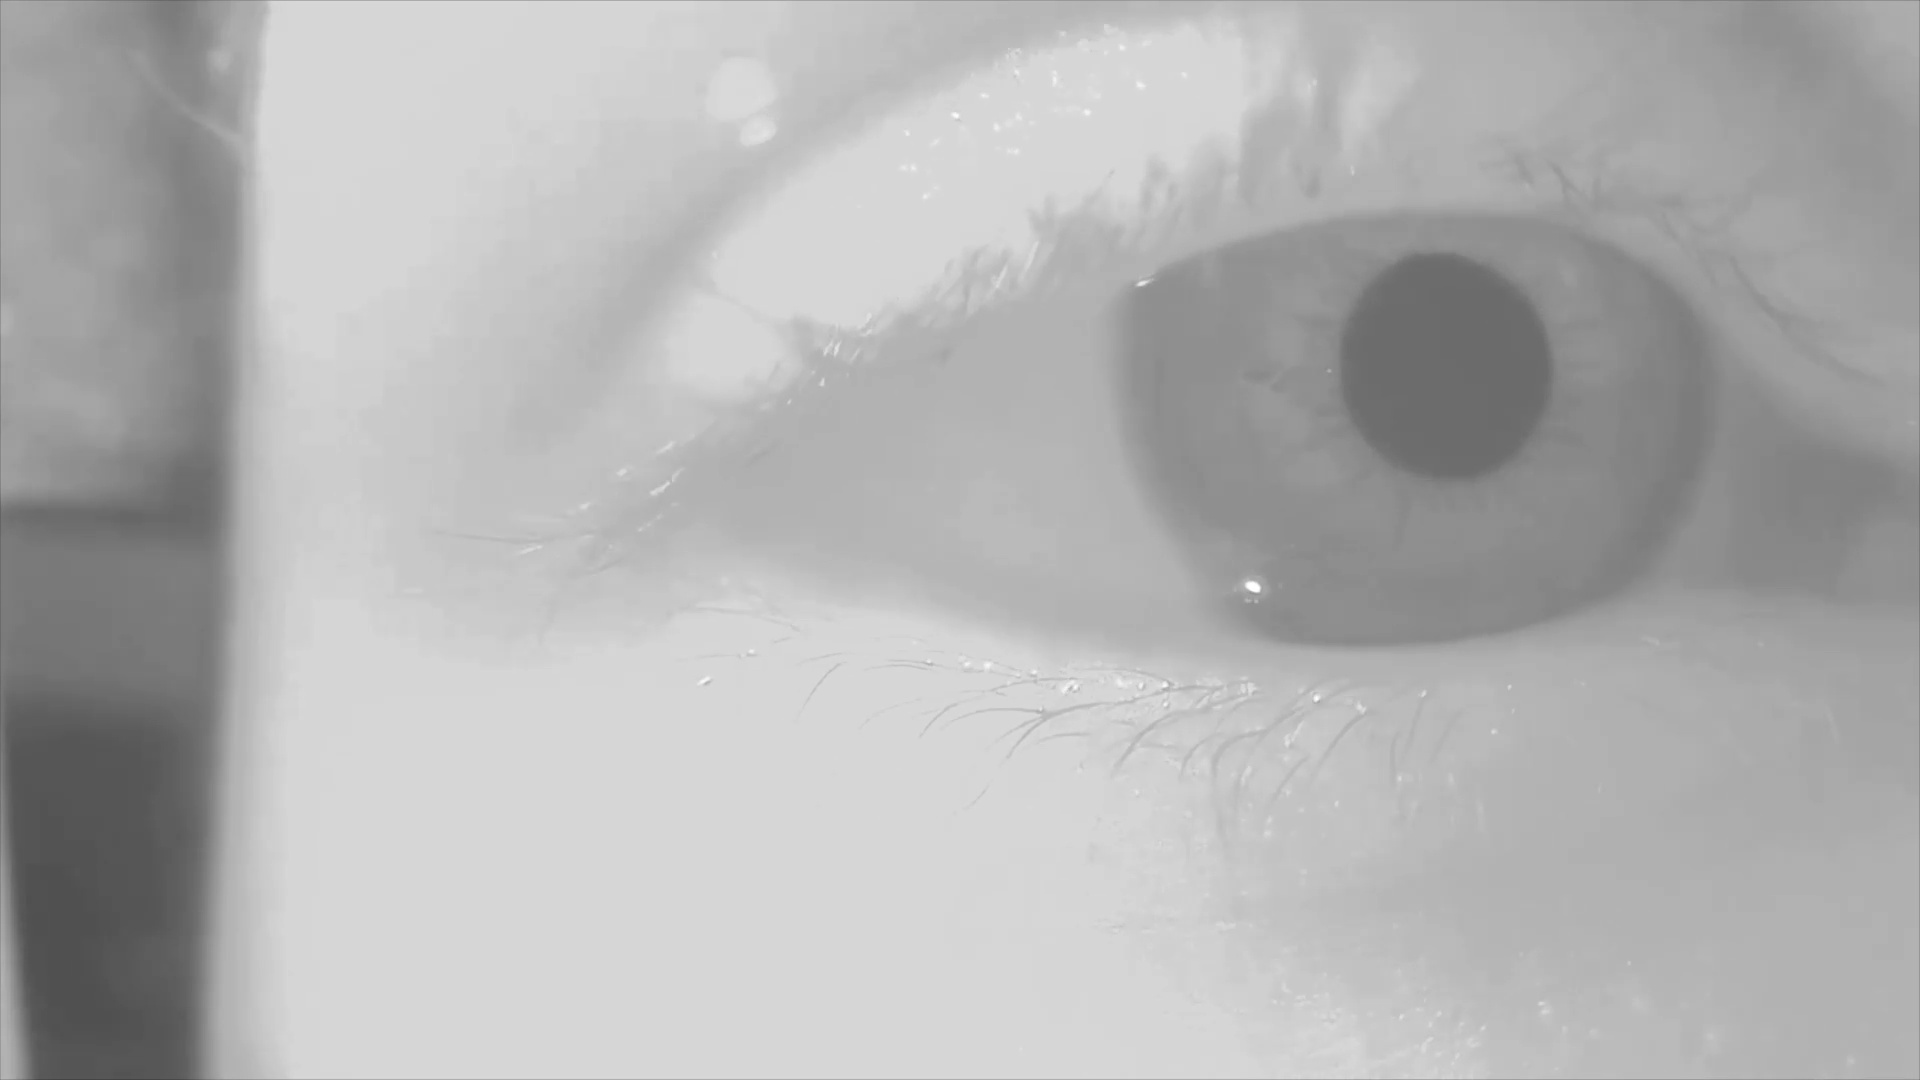pupil: (1347, 253, 1554, 487)
